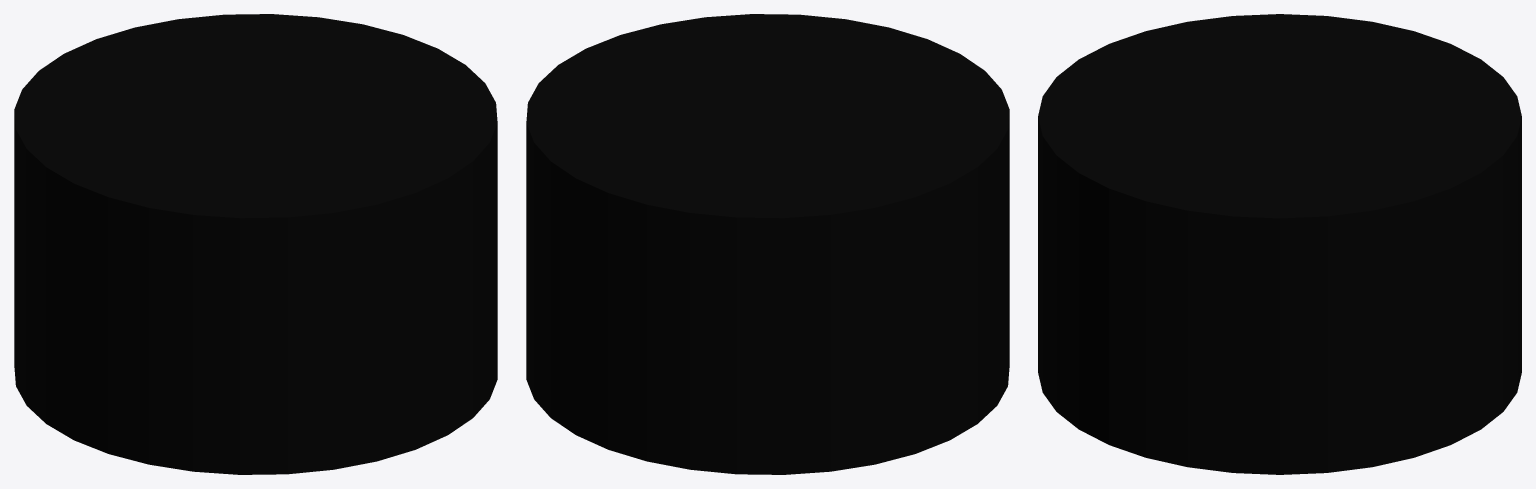
File: Enemy_Body3.obj
The picture shows the model from 3 angles, left to right: view 1: azimuth 30°, elevation 25°; view 2: azimuth 150°, elevation 25°; view 3: azimuth 270°, elevation 25°; orthographic projection.
Visible parts, largest first — view 1: 円柱; view 2: 円柱; view 3: 円柱.
Part boxes in pixels (<box>): 円柱: <box>14,14,497,474</box>; 円柱: <box>526,14,1009,474</box>; 円柱: <box>1038,14,1521,474</box>.
Size of the model in its own units: 2 by 1.17 by 2.
